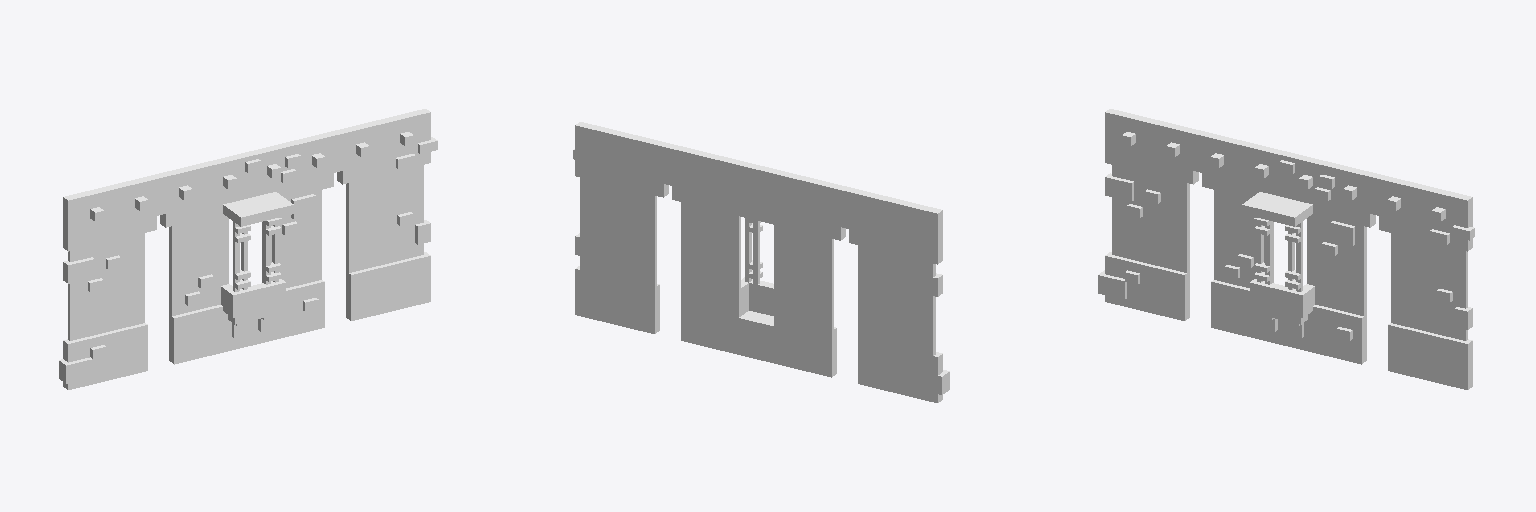
Rendered from LargeBuilding01-1.obj.
3 renders of one model, left to right at view 1: azimuth 30°, elevation 25°; view 2: azimuth 150°, elevation 25°; view 3: azimuth 330°, elevation 25°, orthographic.
Visible parts, largest first — view 1: object 1; view 2: object 1; view 3: object 1.
Part boxes in pixels (left/top/right/bottom): object 1: left=59, top=109, right=437, bottom=389; object 1: left=573, top=122, right=949, bottom=402; object 1: left=1098, top=109, right=1474, bottom=389.
Size of the model in its own units: 8.4 by 4.1 by 0.9.